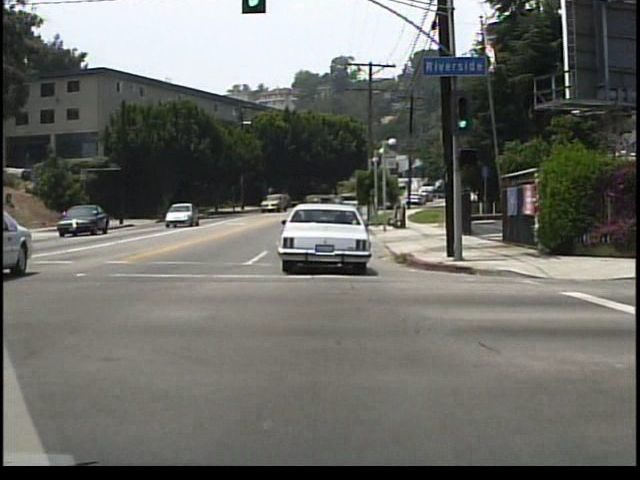person: (94, 204, 105, 230)
